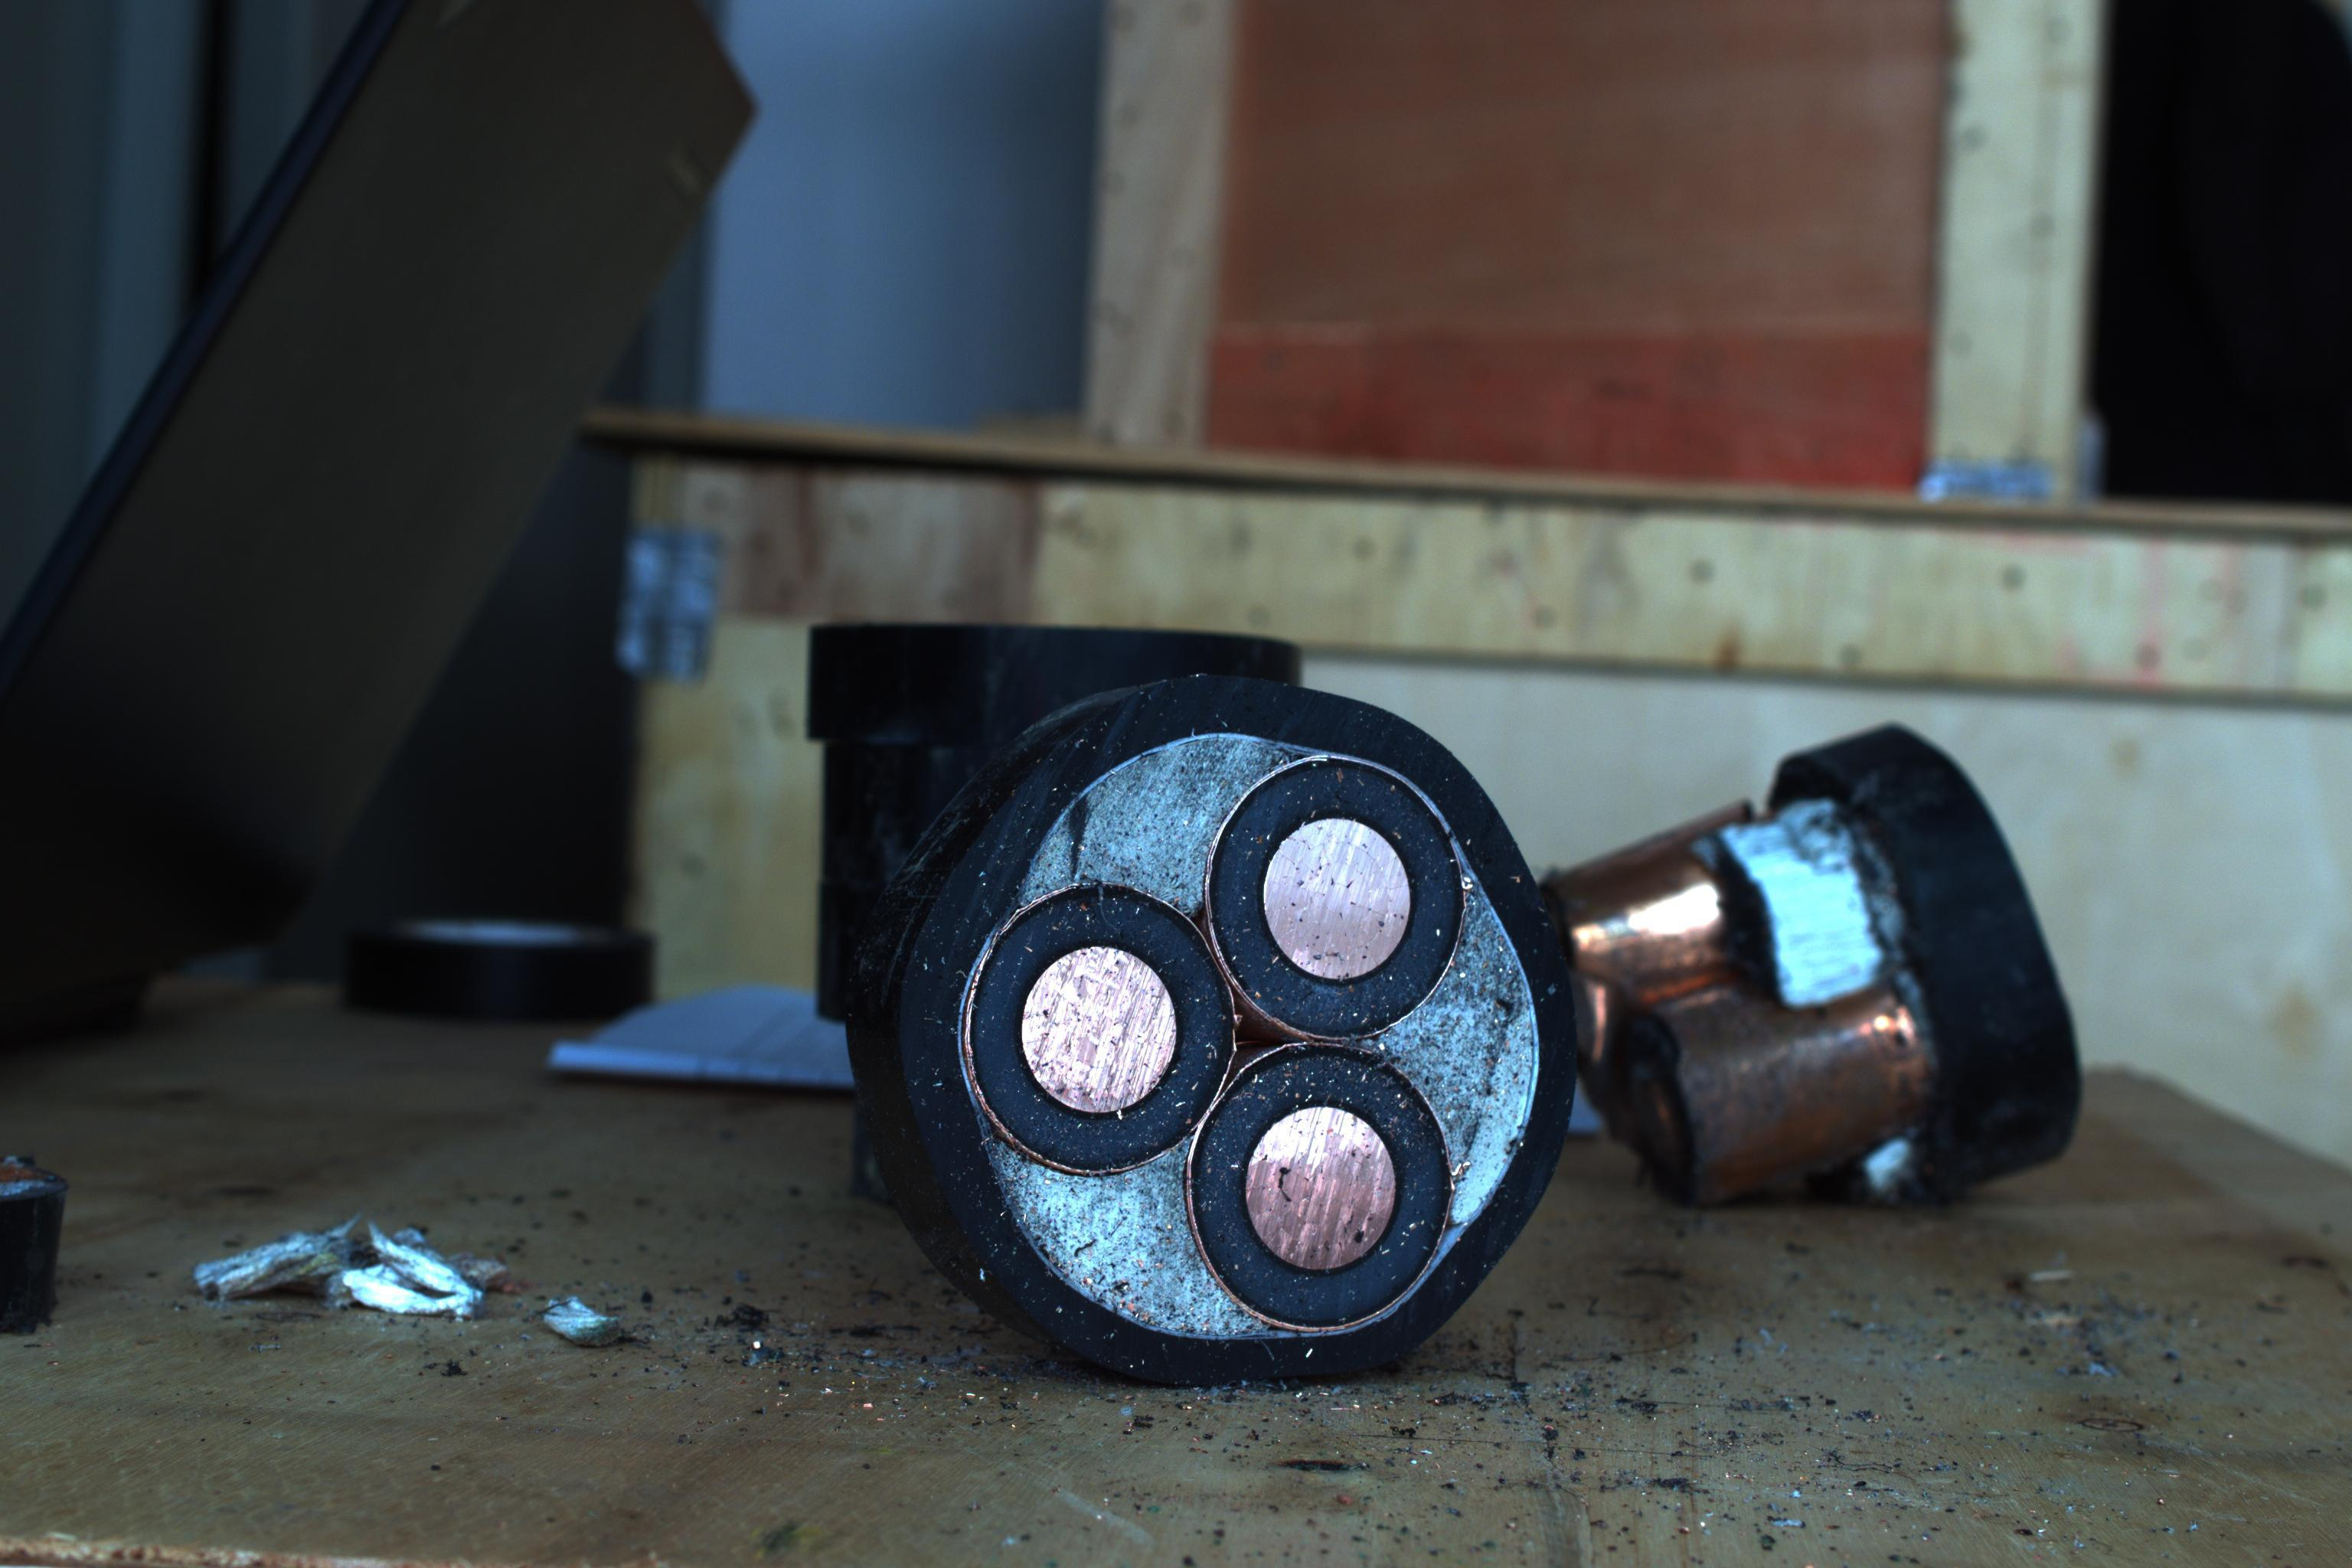ZA_YJV_8.7_10kV_3x240: (943, 695, 1578, 1361)
